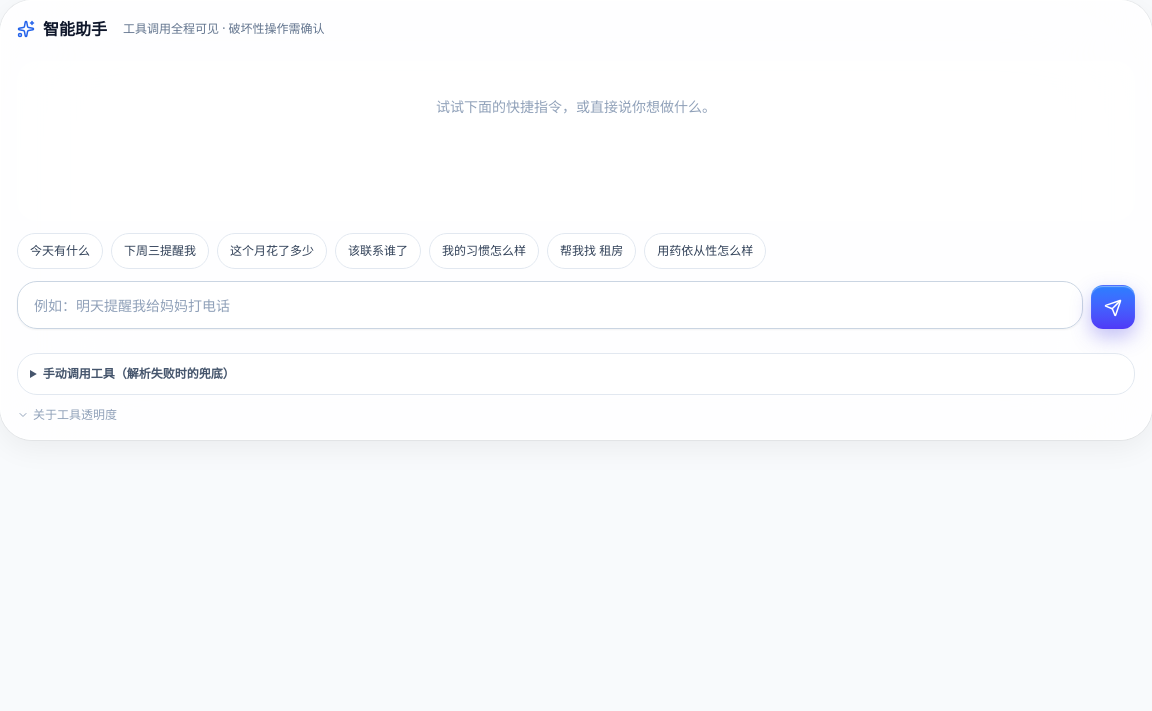
Test case: AssistantPanel (checkbox 109) › renders the 409 confirmation_already_used message
Type "删除事件 42" into the field with test id "assistant-input".
click(550, 305); type("删除事件 42")  # box [17, 281, 1083, 329]
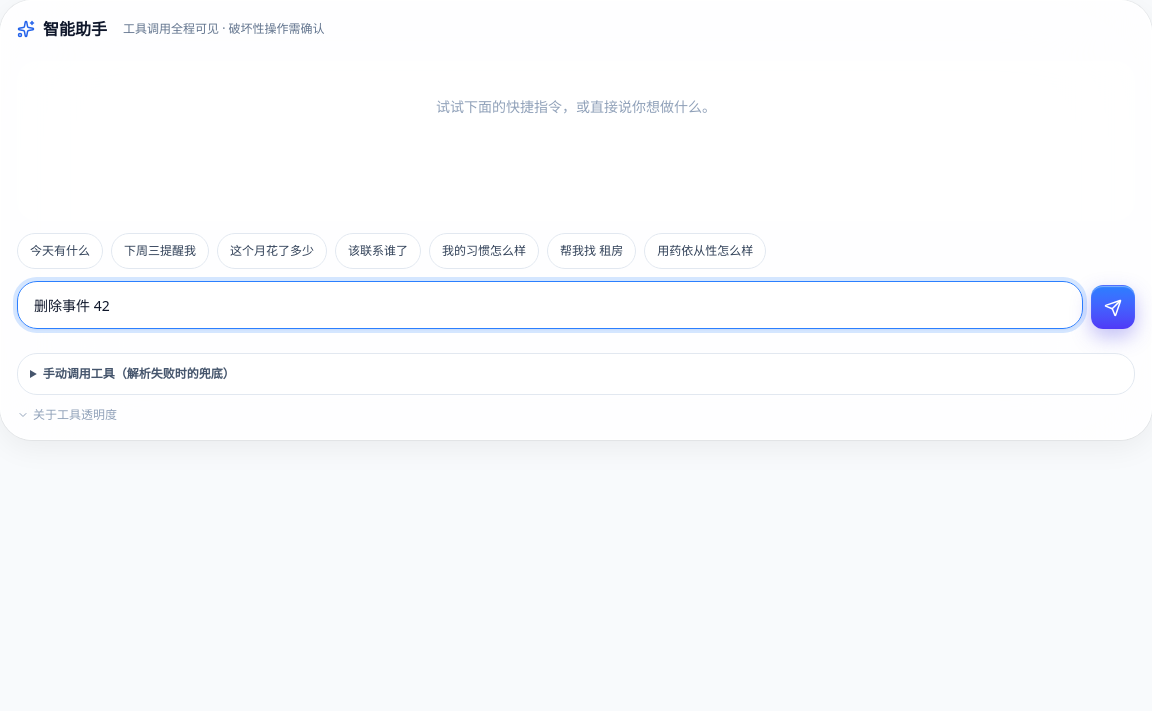
Click the button with test id "assistant-submit".
click(1113, 307)  # box [1091, 285, 1135, 329]
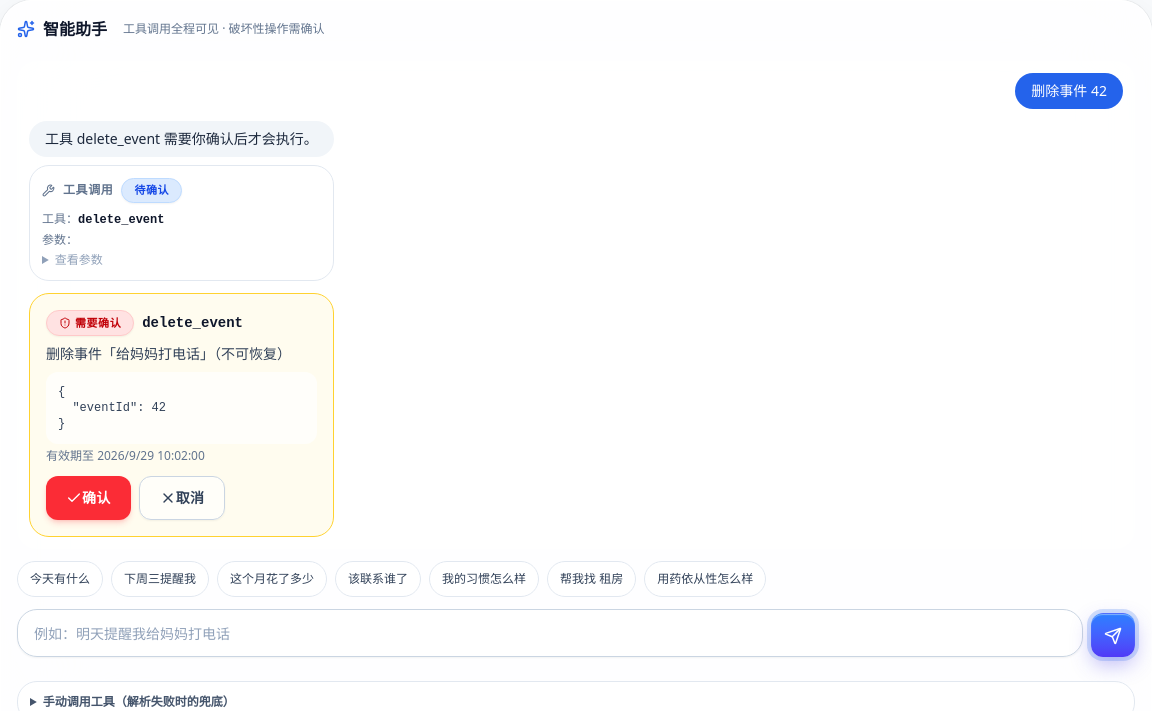
Expected: the element with test id "assistant-confirmation" is shown, [29, 293, 334, 537]
Click the button with test id "assistant-confirm".
click(88, 498)  # box [46, 476, 131, 520]
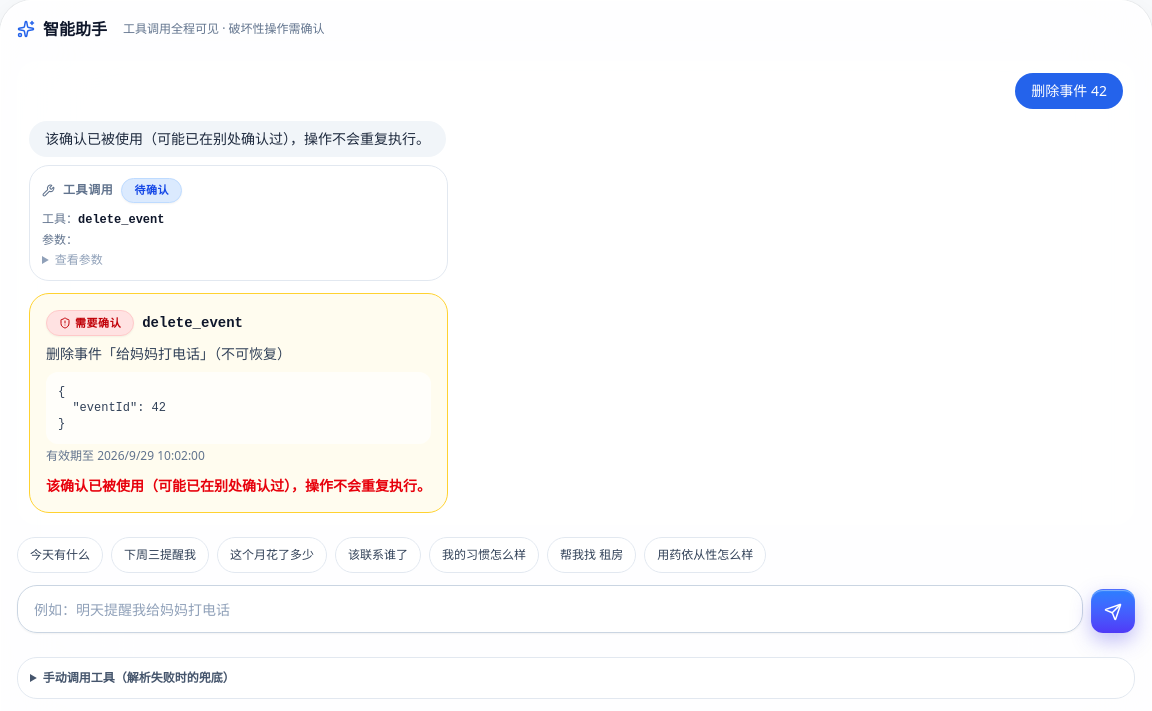
Expected: the message with test id "assistant-confirmation-error" reads "该确认已被使用（可能已在别处确认过），操作不会重复执行。", [46, 476, 431, 495]
